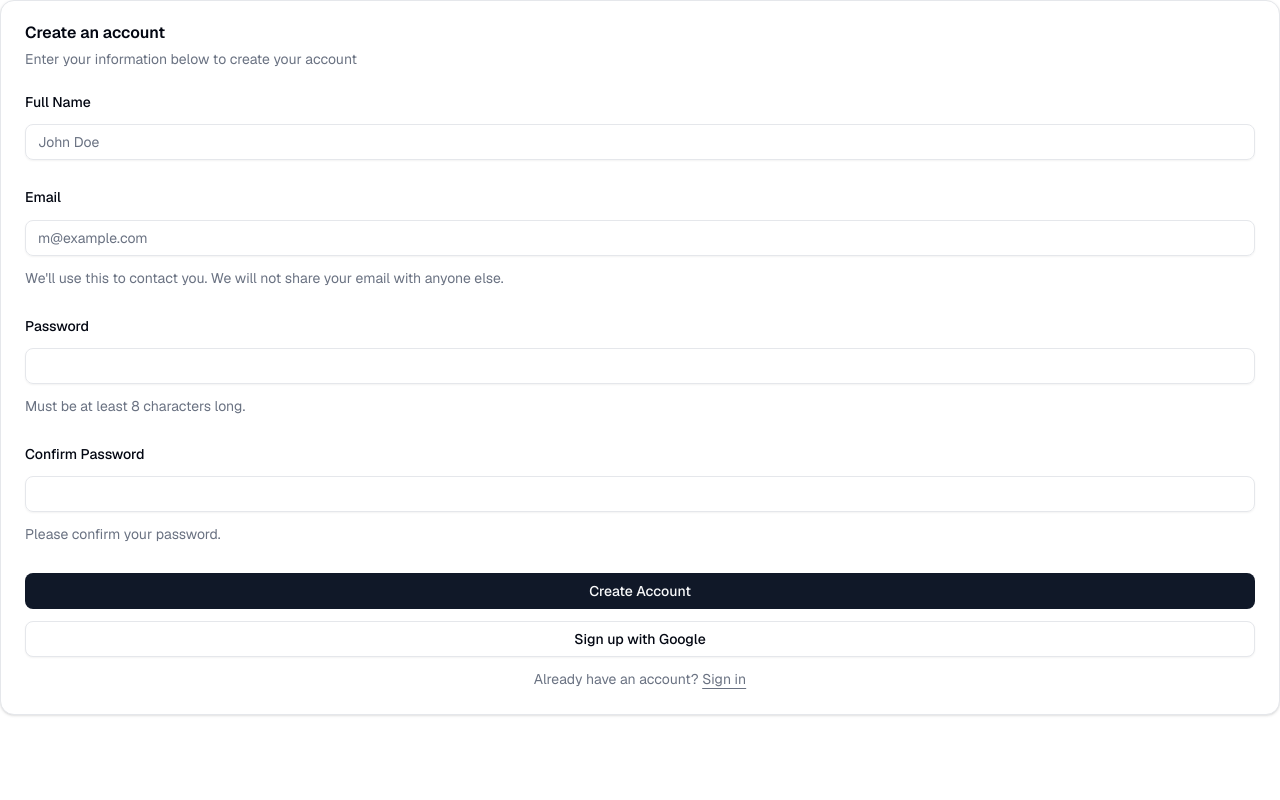
Test: SignupForm Component › should show error when auto-login fails after registration
Type "Test User" into the field labelled "Full Name".
click(640, 142); type("Test User")  # box [25,124,1255,160]
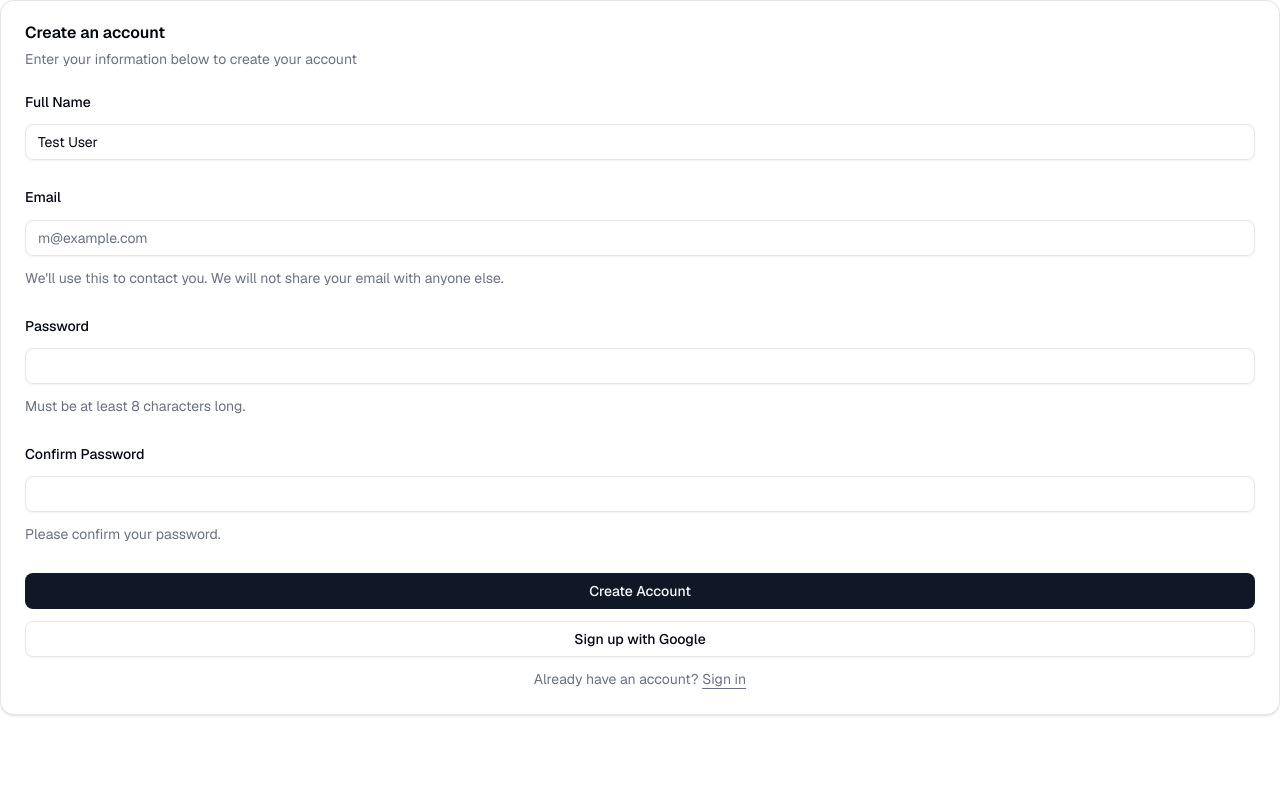
Type "test@example.com" into the field labelled "Email".
click(640, 238); type("test@example.com")  # box [25,220,1255,256]
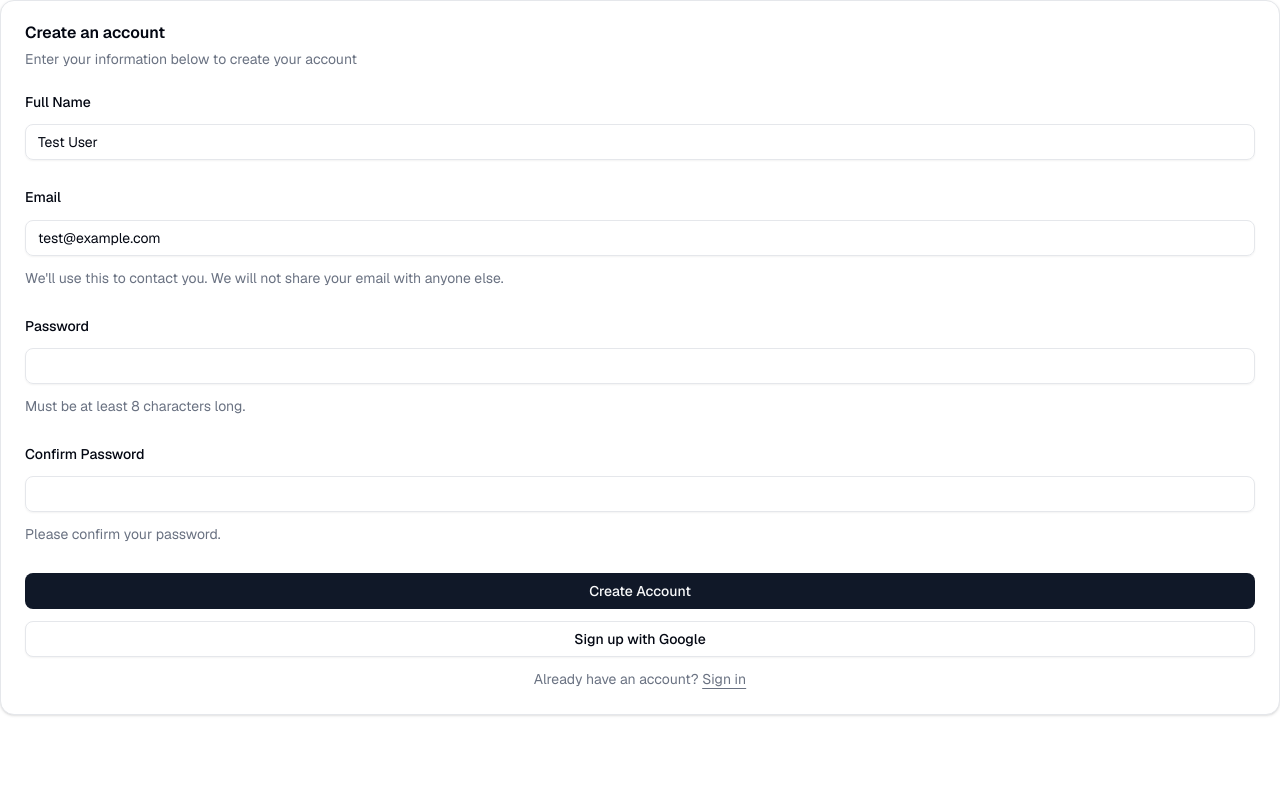
Type "password123" into the password field labelled "Password".
click(640, 366); type("password123")  # box [25,348,1255,384]
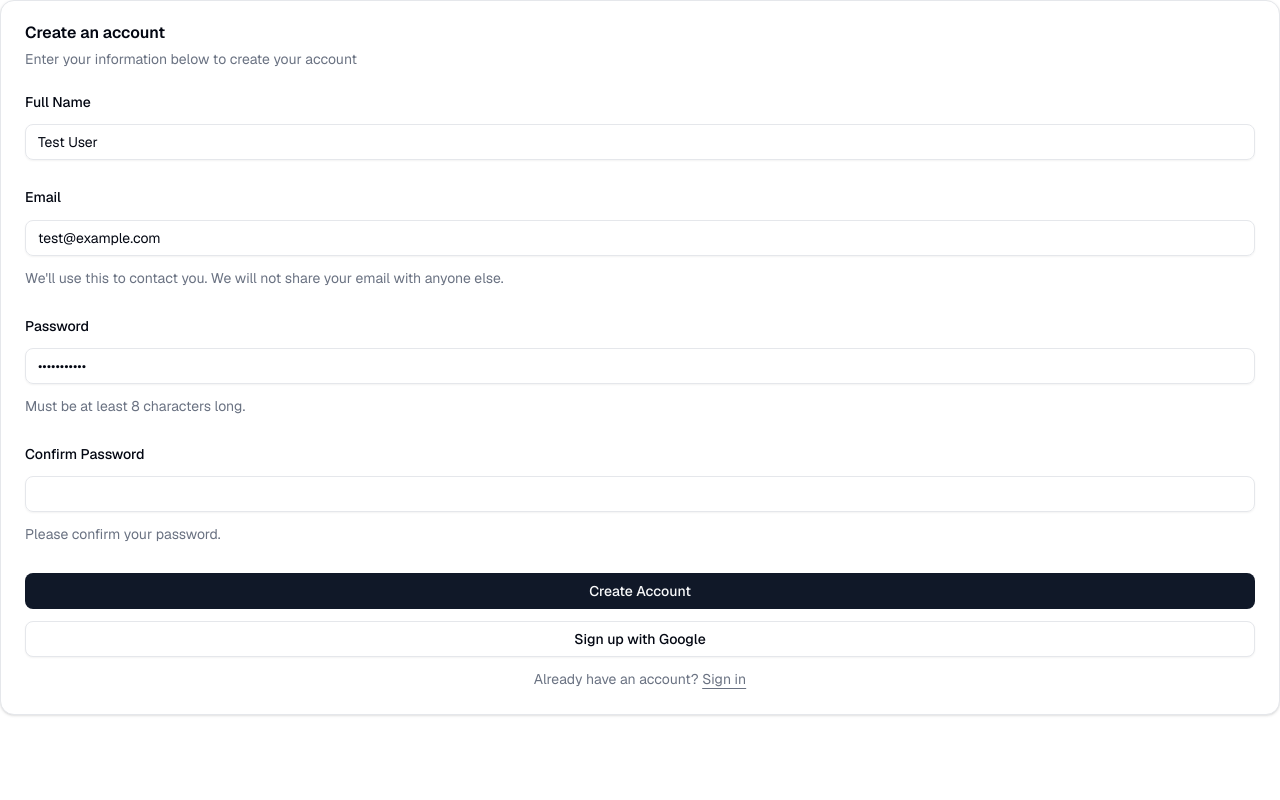
Type "password123" into the password field labelled "Confirm Password".
click(640, 494); type("password123")  # box [25,476,1255,512]
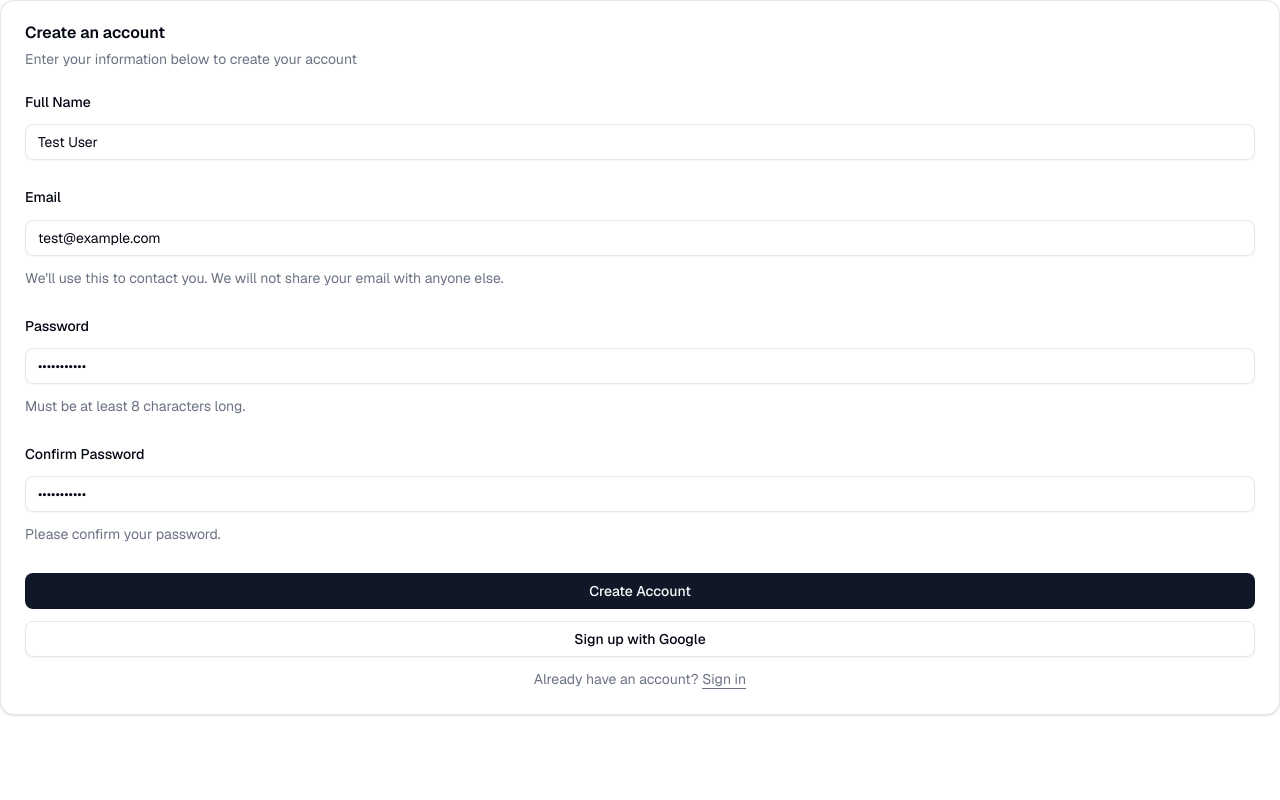
Click the button "Create Account".
click(640, 591)  # box [25,573,1255,609]
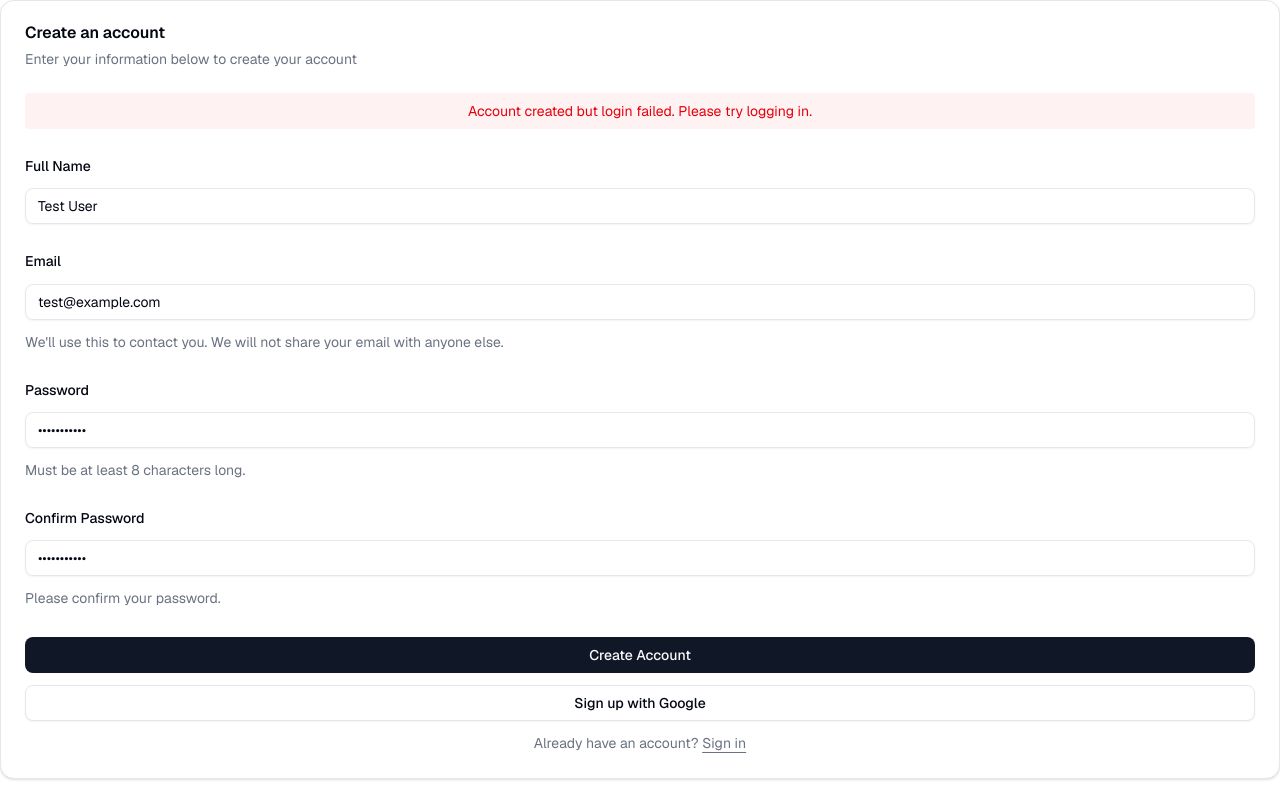
Expected: the text "Account created but login failed. Please try logging in." is shown, [25,93,1255,129]
